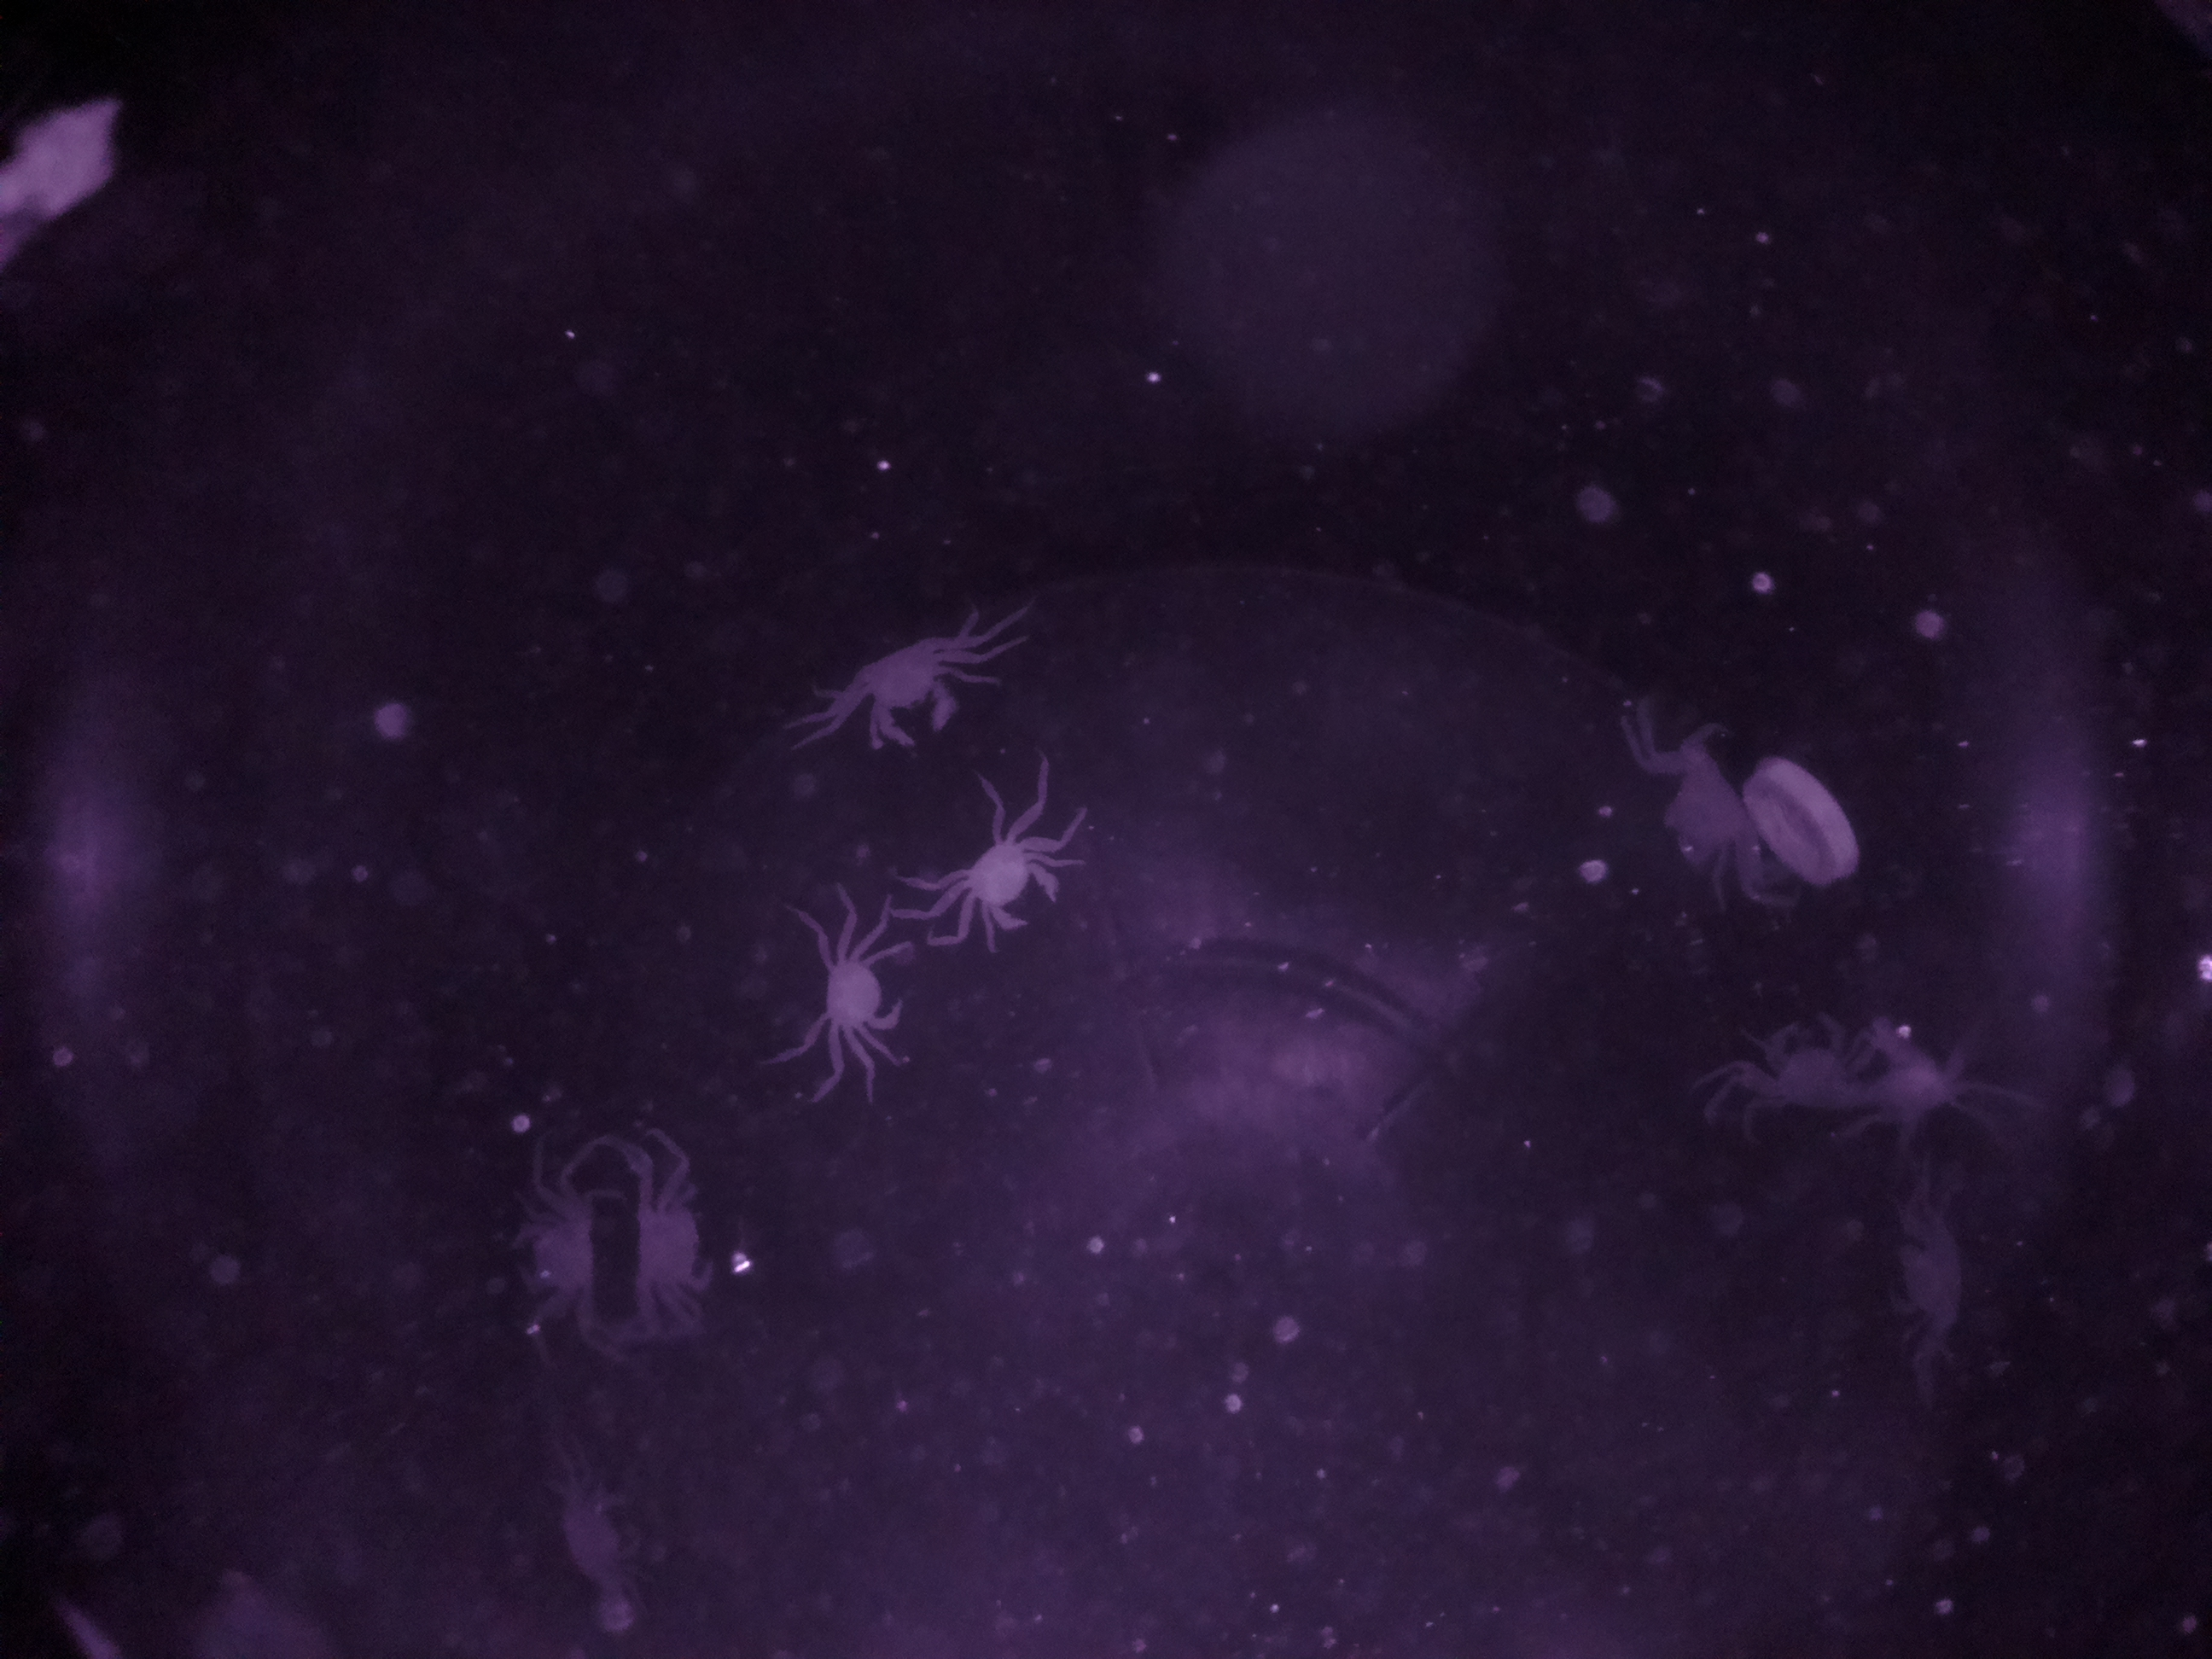Crab: (484, 1155, 627, 1368), (608, 1140, 747, 1333), (770, 911, 918, 1084), (824, 613, 986, 765), (928, 816, 1087, 951)
